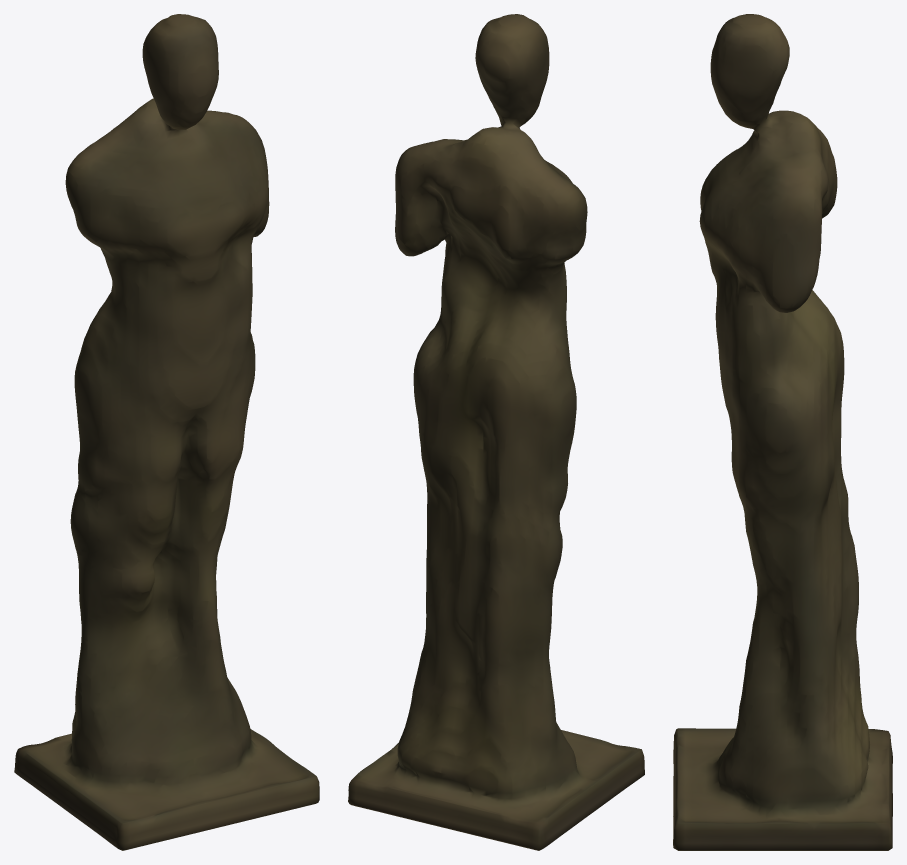
File: GenStatue_1_0.fbx
3 views of the same model, side by side, from view 1: azimuth 30°, elevation 25°; view 2: azimuth 150°, elevation 25°; view 3: azimuth 270°, elevation 25° (orthographic). The views are drawn at different scales.
Parts seen in each view (by area): view 1: example_mesh_1; view 2: example_mesh_1; view 3: example_mesh_1.
Boxes of the visible parts, x1,y1,x2,y2 form: example_mesh_1: (14,14,319,850); example_mesh_1: (348,14,644,850); example_mesh_1: (673,14,892,850).
Bounding box in the file's own units: 53.38 × 198 × 50.3.
